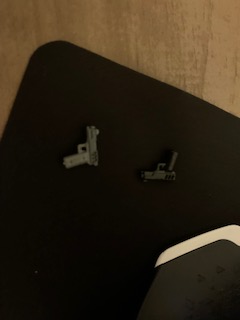pistol: (55, 118, 104, 173), (139, 143, 181, 184)
